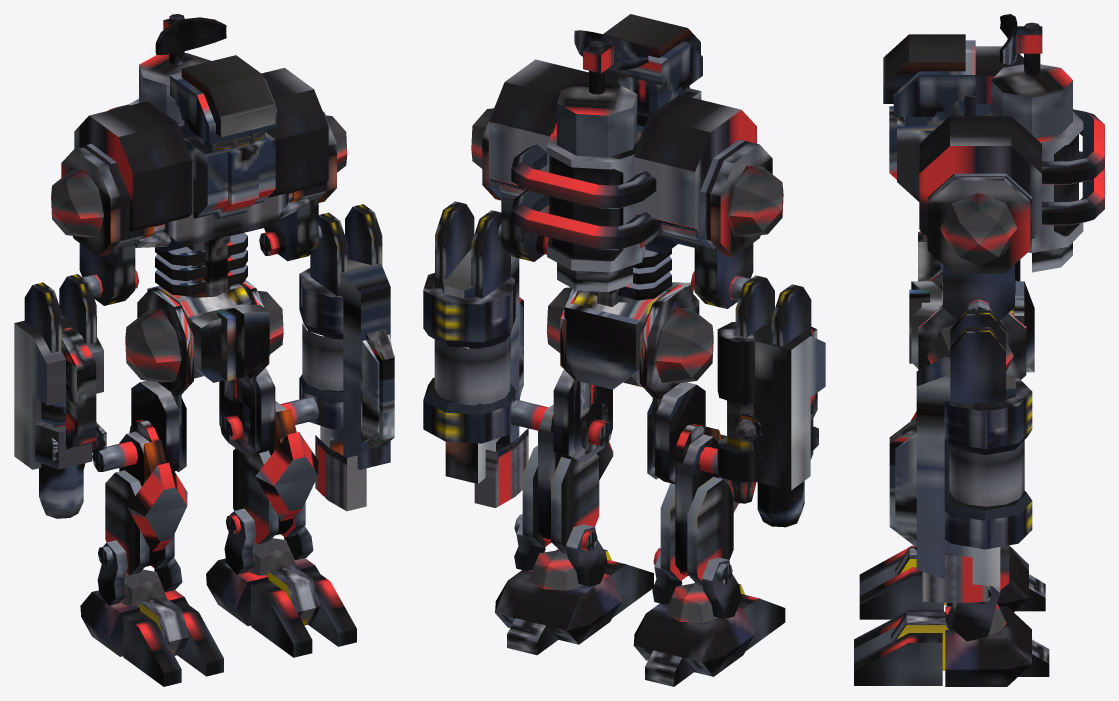
Rendered from armcom_red.glb.
The picture shows the model from 3 angles, left to right: view 1: azimuth 30°, elevation 25°; view 2: azimuth 150°, elevation 25°; view 3: azimuth 270°, elevation 25°; orthographic projection. The views are drawn at different scales.
Parts seen in each view (by area): view 1: torso, biggun, rloarm, head, lfoot, rfoot, ruparm, rthigh, rleg, lleg, pelvis, lthigh (+4 smaller); view 2: torso, rloarm, biggun, lfoot, rfoot, rthigh, ruparm, lleg, rleg, pelvis, head, lthigh (+5 smaller); view 3: biggun, torso, lfoot, luparm, head, rfoot, bigguncyl, lthigh, pelvis, barrel, dish, rloarm (+1 smaller).
Part boxes in pixels (x1,y1,x2,y2): torso: (74,53,328,297); biggun: (299,204,394,469); rloarm: (14,274,103,518); head: (170,55,277,219); lfoot: (206,508,356,657); rfoot: (80,540,223,686); ruparm: (51,146,153,305); rthigh: (125,287,193,472); rleg: (92,431,187,575); lleg: (220,397,318,543); pelvis: (147,283,269,382); lthigh: (219,280,283,455); torso: (488,59,756,307); rloarm: (717,275,825,527); biggun: (423,201,523,483); lfoot: (495,514,653,655); rfoot: (633,548,785,686); rthigh: (639,284,713,483); ruparm: (690,140,783,308); lleg: (510,400,613,553); rleg: (660,425,738,586); pelvis: (564,282,693,389); head: (603,14,702,126); lthigh: (547,287,612,462); biggun: (889,310,1032,587); torso: (919,46,1104,294); lfoot: (854,586,1049,686); luparm: (927,174,1030,320); head: (883,34,975,201); rfoot: (859,545,1045,619); bigguncyl: (949,440,1024,506); lthigh: (918,305,1026,379); pelvis: (909,281,1034,372); barrel: (922,553,988,603); dish: (999,14,1042,75); rloarm: (918,231,1020,281).
Bounding box in the file's own units: 37.17 × 58.71 × 21.71.
1 material, 1 textured.
